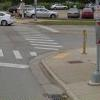Crosswalk: (9, 22, 60, 65)
